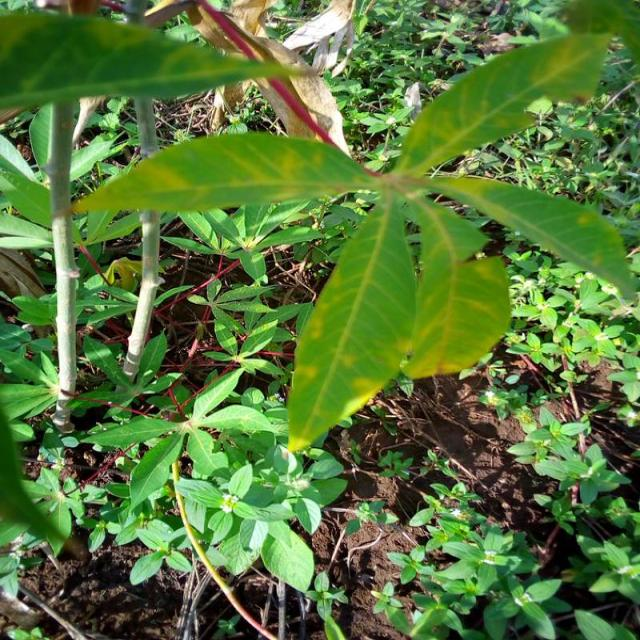cassava leaf: (69, 8, 636, 452), (286, 195, 418, 452)
